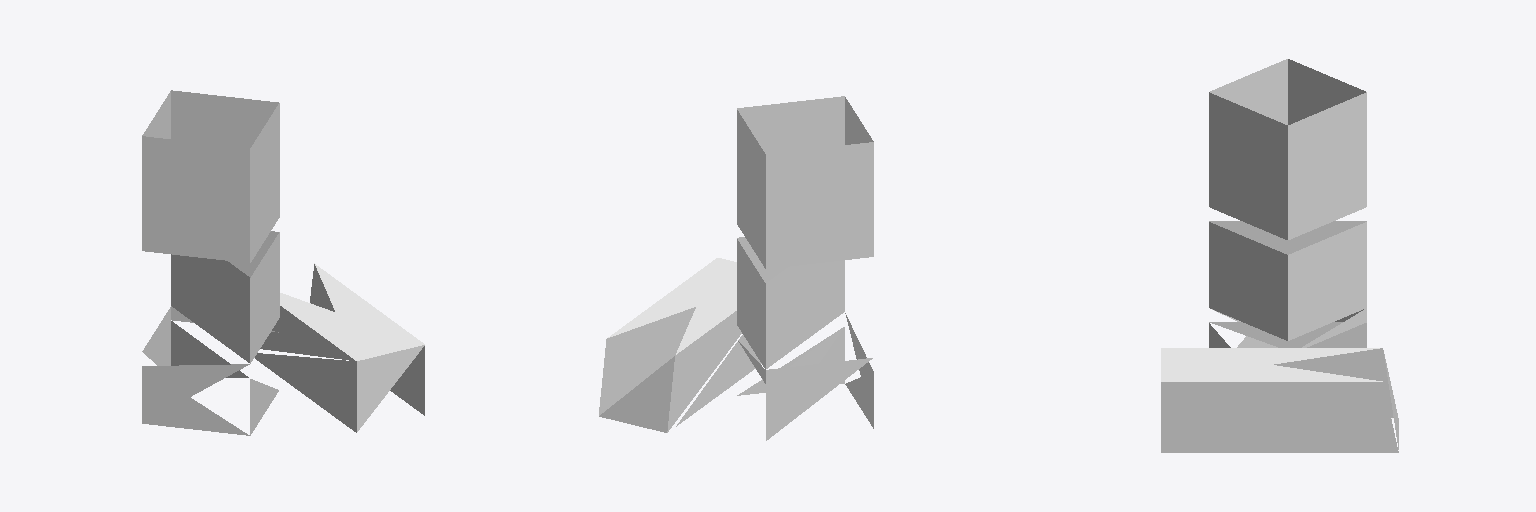
3 renders of one model, left to right at view 1: azimuth 30°, elevation 25°; view 2: azimuth 150°, elevation 25°; view 3: azimuth 270°, elevation 25°, orthographic.
Visible parts, largest first — view 1: Marron 1, Blanco 1; view 2: Marron 1, Blanco 1; view 3: Marron 1, Blanco 1.
Part boxes in pixels (x1,y1,x2,y2): Marron 1: (142,90,279,435); Blanco 1: (255,263,424,432); Marron 1: (737,96,873,440); Blanco 1: (599,258,761,432); Marron 1: (1209,59,1366,347); Blanco 1: (1161,348,1398,452).
Bounding box in the file's own units: 16 × 20 × 15.